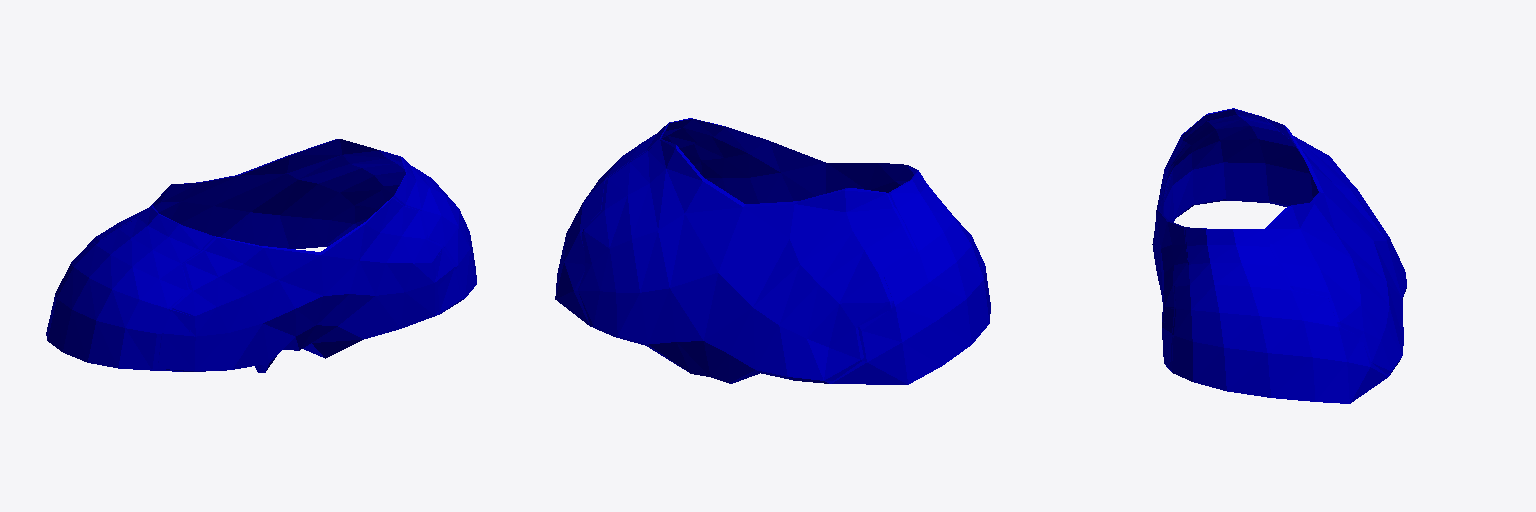
The model's file is BGSpamton(F)(P).obj.
3 renders of one model, left to right at view 1: azimuth 30°, elevation 25°; view 2: azimuth 150°, elevation 25°; view 3: azimuth 270°, elevation 25°, orthographic.
Parts seen in each view (by area): view 1: Pants_Cube.009; view 2: Pants_Cube.009; view 3: Pants_Cube.009.
Part boxes in pixels (x1,y1,x2,y2): Pants_Cube.009: (46,139,476,372); Pants_Cube.009: (555,118,990,384); Pants_Cube.009: (1152,108,1406,403).
Bounding box in the file's own units: 0.5123 × 0.2291 × 0.2849.